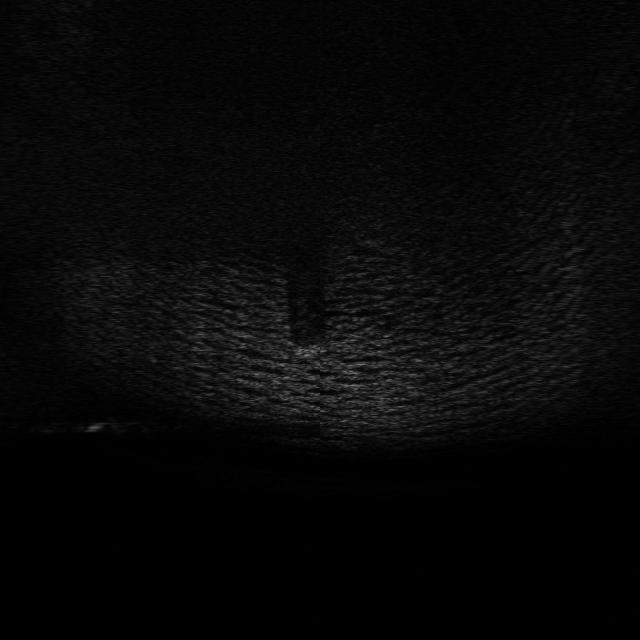cube: (290, 339, 330, 361)
